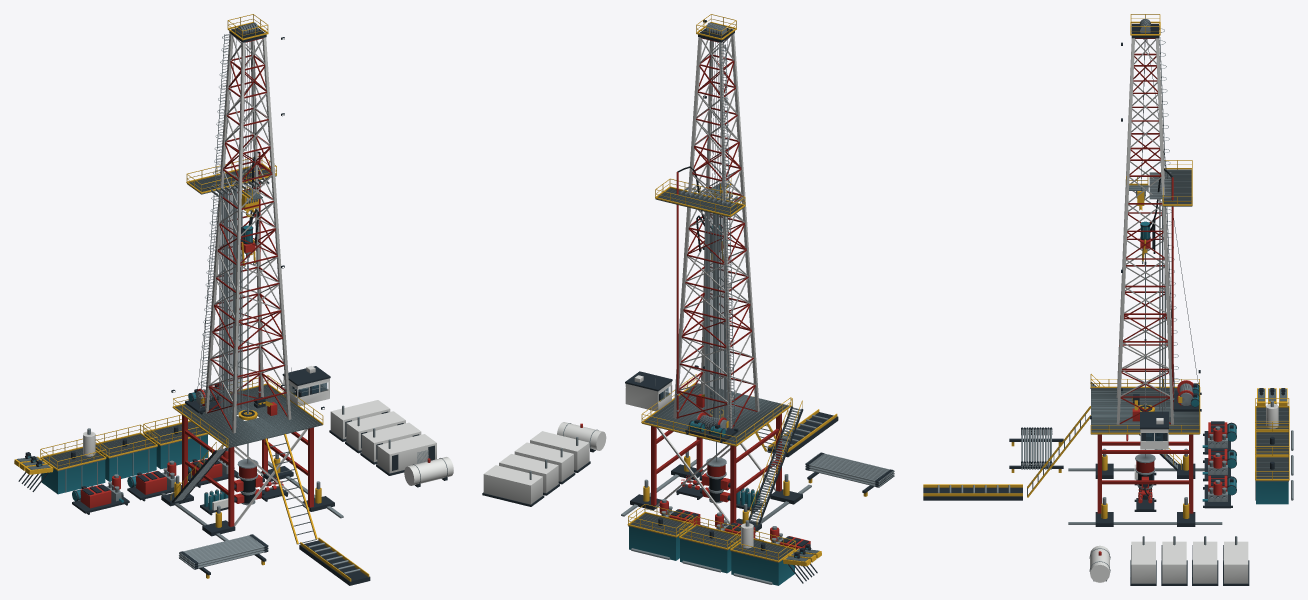
The model's file is land_3000_triple_walking_lodm.glb.
3 renders of one model, left to right at view 1: azimuth 30°, elevation 25°; view 2: azimuth 150°, elevation 25°; view 3: azimuth 270°, elevation 25°, orthographic.
Parts seen in each view (by area): view 1: derrick_surface_white, derrick_surface_red, generators_surface_white, setback_pipe_surface_steel, drill_floor_surface_deck, mud_tanks_surface_blue, substructure_surface_red, mud_tanks_surface_deck, mud_tanks_surface_yellow, ladder_surface_steel, pipe_rack_surface_steel, drill_floor_surface_steel (+14 smaller); view 2: derrick_surface_white, generators_surface_white, derrick_surface_red, setback_pipe_surface_steel, mud_tanks_surface_blue, drill_floor_surface_deck, substructure_surface_red, mud_tanks_surface_deck, mud_tanks_surface_yellow, ladder_surface_steel, pipe_rack_surface_steel, handrails_surface_yellow (+16 smaller); view 3: derrick_surface_white, generators_surface_white, drill_floor_surface_deck, derrick_surface_red, mud_tanks_surface_deck, substructure_surface_red, drill_floor_surface_steel, mud_tanks_surface_steel, catwalk_surface_dark, pipe_rack_surface_steel, mud_tanks_surface_yellow, setback_pipe_surface_steel (+14 smaller).
Part boxes in pixels (box(x1,y1,x2,y2)): derrick_surface_white: box(204, 33, 291, 433); derrick_surface_red: box(207, 38, 287, 429); generators_surface_white: box(330, 400, 436, 473); setback_pipe_surface_steel: box(219, 187, 242, 413); drill_floor_surface_deck: box(175, 384, 322, 448); mud_tanks_surface_blue: box(41, 435, 207, 494); substructure_surface_red: box(182, 415, 313, 526); mud_tanks_surface_deck: box(42, 421, 208, 471); mud_tanks_surface_yellow: box(40, 414, 207, 470); ladder_surface_steel: box(198, 34, 229, 413); pipe_rack_surface_steel: box(179, 534, 268, 569); drill_floor_surface_steel: box(175, 385, 320, 446); derrick_surface_white: box(673, 33, 759, 428); generators_surface_white: box(483, 431, 589, 504); derrick_surface_red: box(676, 36, 757, 428); setback_pipe_surface_steel: box(704, 211, 727, 420); mud_tanks_surface_blue: box(629, 526, 794, 585); drill_floor_surface_deck: box(642, 383, 788, 446); substructure_surface_red: box(651, 414, 781, 524); mud_tanks_surface_deck: box(628, 513, 793, 562); mud_tanks_surface_yellow: box(627, 504, 795, 562); ladder_surface_steel: box(718, 43, 736, 428); pipe_rack_surface_steel: box(805, 452, 894, 487); handrails_surface_yellow: box(641, 374, 791, 446); derrick_surface_white: box(1116, 38, 1173, 424); generators_surface_white: box(1131, 541, 1248, 583); drill_floor_surface_deck: box(1091, 388, 1199, 434); derrick_surface_red: box(1119, 38, 1170, 424); mud_tanks_surface_deck: box(1255, 407, 1288, 481); substructure_surface_red: box(1097, 434, 1193, 513); drill_floor_surface_steel: box(1091, 388, 1198, 431); mud_tanks_surface_steel: box(1255, 408, 1293, 500); catwalk_surface_dark: box(923, 487, 1022, 500); pipe_rack_surface_steel: box(1021, 427, 1051, 469); mud_tanks_surface_yellow: box(1255, 398, 1289, 480); setback_pipe_surface_steel: box(1159, 199, 1165, 410).
Bounding box in the file's own units: 43.62 × 58.21 × 40.86.
